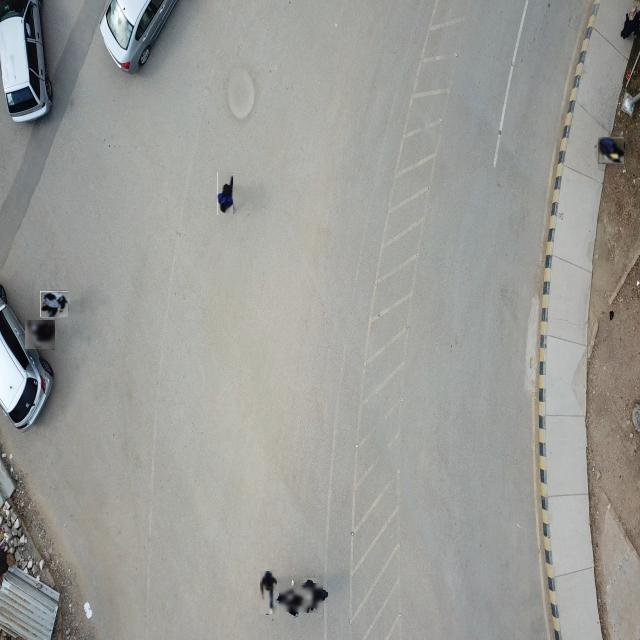Manusia: (25, 320, 56, 350), (260, 571, 278, 615), (280, 585, 308, 613), (41, 290, 68, 318), (598, 137, 625, 165), (217, 172, 234, 216), (298, 583, 324, 609)
